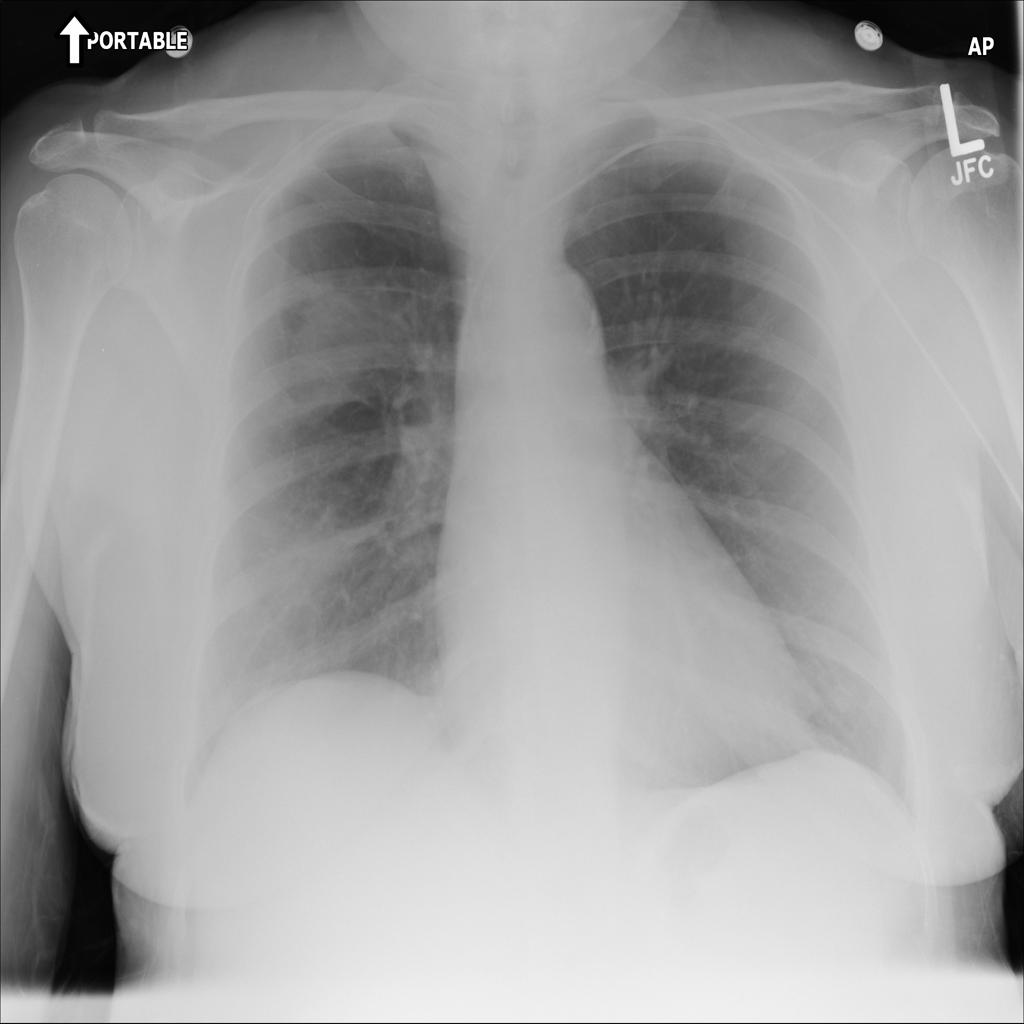nodule: (265, 263, 418, 425)
